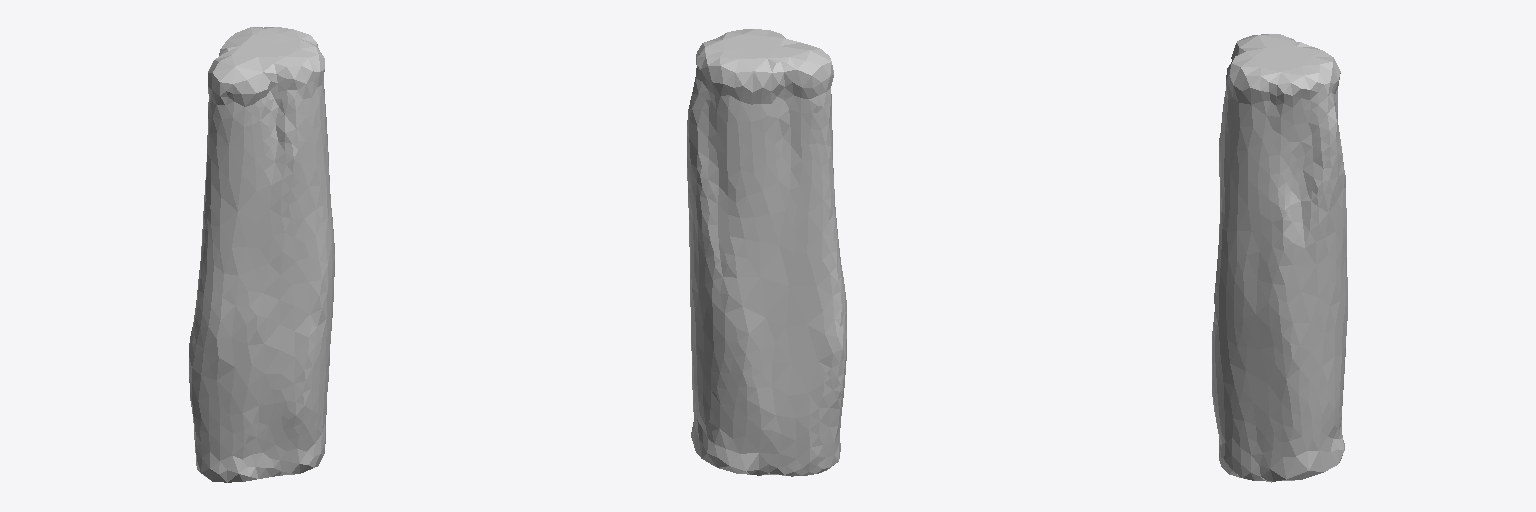
Rendered from RockPillars_2.obj.
3 renders of one model, left to right at view 1: azimuth 30°, elevation 25°; view 2: azimuth 150°, elevation 25°; view 3: azimuth 270°, elevation 25°, orthographic.
Parts seen in each view (by area): view 1: RockPillar02; view 2: RockPillar02; view 3: RockPillar02.
Part boxes in pixels (x1,y1,x2,y2): RockPillar02: (189, 27, 334, 482); RockPillar02: (687, 29, 846, 476); RockPillar02: (1212, 34, 1347, 482).
Size of the model in its own units: 15.12 by 41.83 by 12.6.